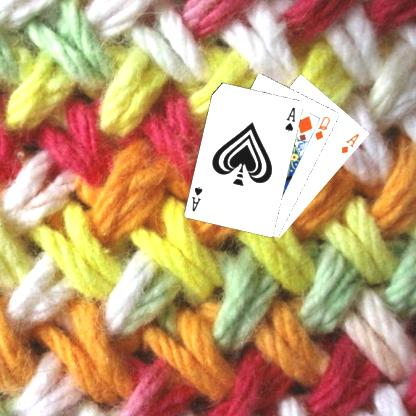AD: (340, 130, 363, 155)
AS: (191, 183, 206, 213), (284, 104, 298, 133)
QD: (314, 113, 334, 142)
